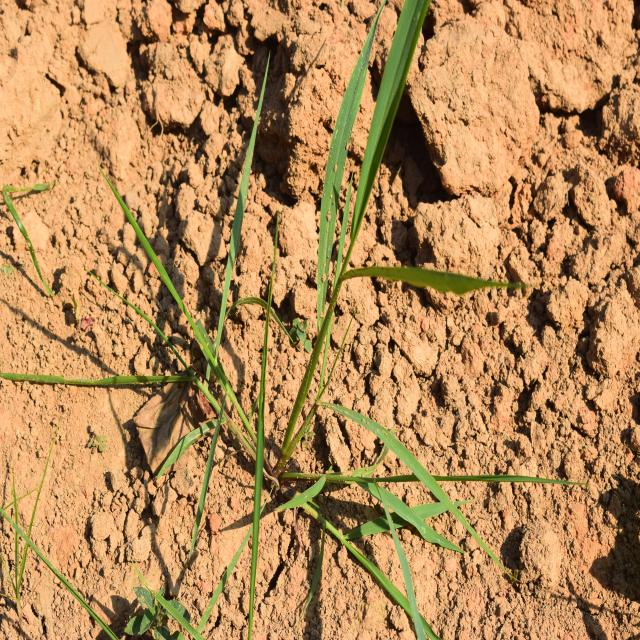green_foxtail: (303, 32, 472, 517)
